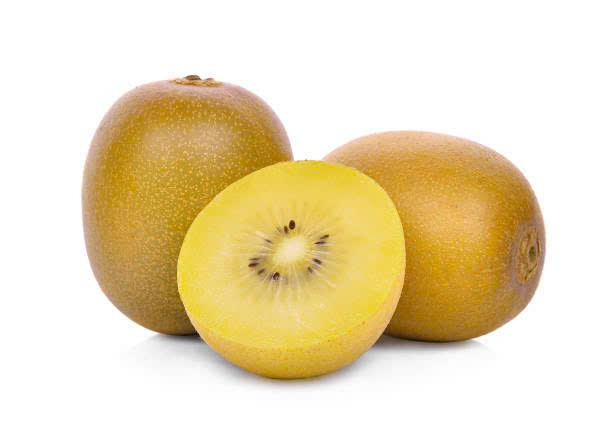kiwi: (75, 75, 288, 349), (176, 155, 394, 373), (336, 125, 550, 341)
